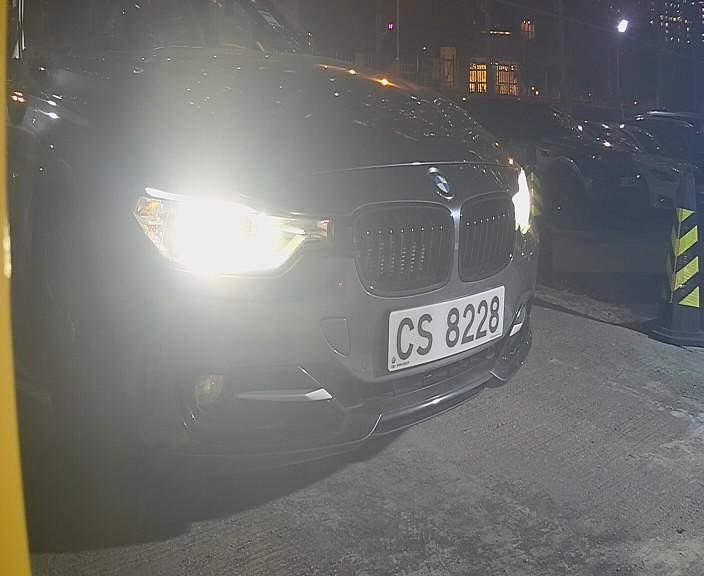Car: (16, 3, 620, 476)
License Plate: (375, 278, 513, 373)
